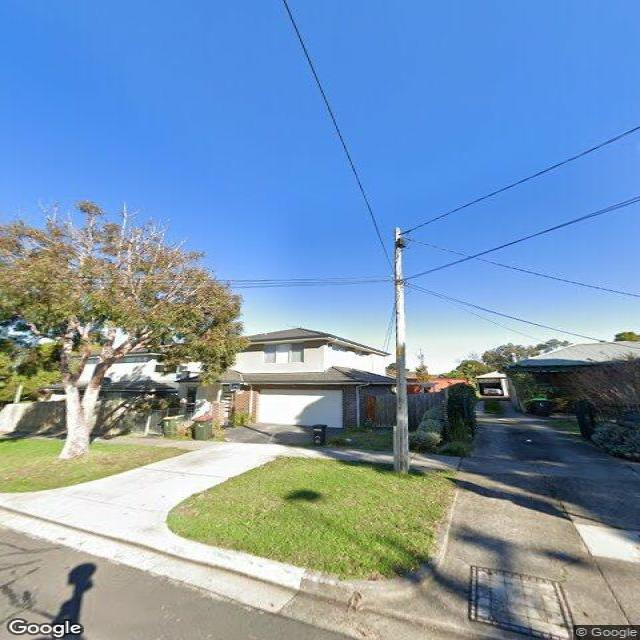timber-pole: (392, 225, 410, 478)
